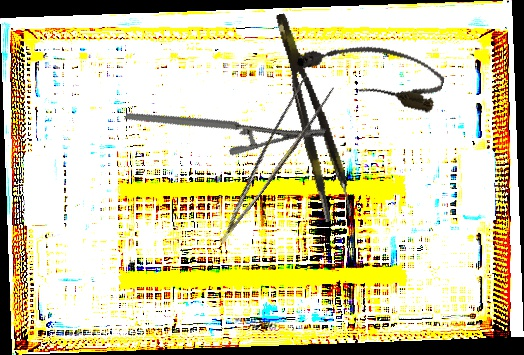Cannula: (293, 25, 449, 116)
Needle Holder: (123, 50, 328, 197)
Tissue Forceps: (194, 69, 340, 245), (272, 8, 356, 223)
